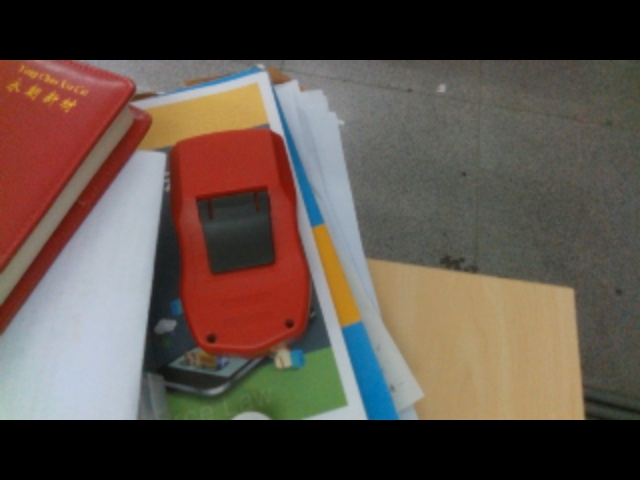Multimeter: (168, 124, 309, 351)
Screw holes: (201, 329, 218, 346), (283, 318, 296, 329)
